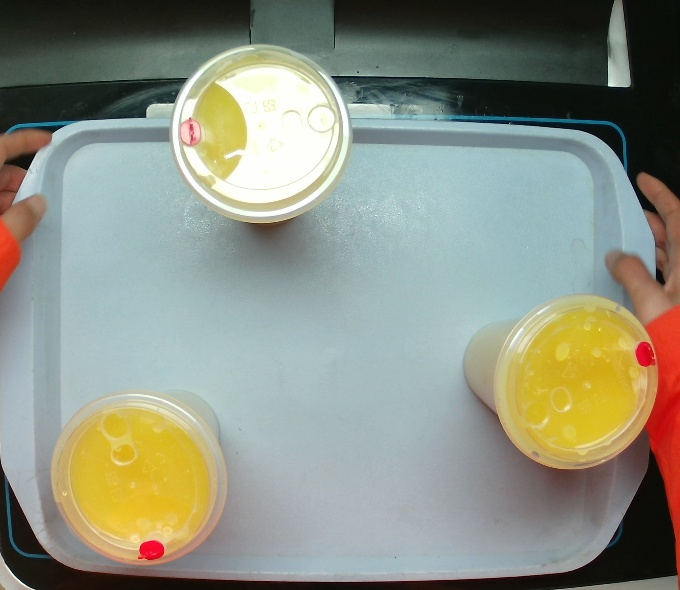wcq-ChengZhi: (461, 292, 661, 472), (169, 40, 356, 229), (48, 386, 230, 567)
